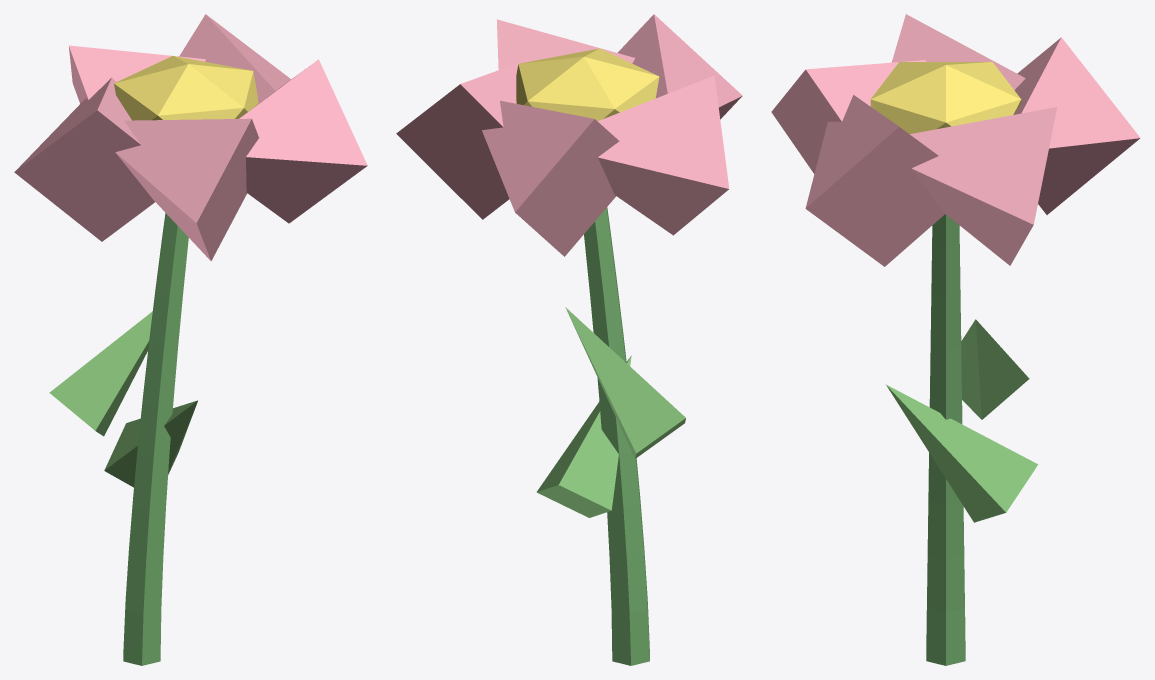
The model's file is 50-Vegetacion_flor_isla.glb.
3 views of the same model, side by side, from view 1: azimuth 30°, elevation 25°; view 2: azimuth 150°, elevation 25°; view 3: azimuth 270°, elevation 25° (orthographic). The views are drawn at different scales.
Parts seen in each view (by area): view 1: SM_Tallo_M_Petalo_Flor, SM_Tallo_M_Tallo_Flor, SM_Tallo_M_Hoja_Flor, SM_Tallo_M_Centro_Flor; view 2: SM_Tallo_M_Petalo_Flor, SM_Tallo_M_Tallo_Flor, SM_Tallo_M_Hoja_Flor, SM_Tallo_M_Centro_Flor; view 3: SM_Tallo_M_Petalo_Flor, SM_Tallo_M_Tallo_Flor, SM_Tallo_M_Hoja_Flor, SM_Tallo_M_Centro_Flor.
Part boxes in pixels (bbox=[...]): SM_Tallo_M_Petalo_Flor: bbox=[14, 14, 367, 261]; SM_Tallo_M_Tallo_Flor: bbox=[123, 213, 188, 665]; SM_Tallo_M_Hoja_Flor: bbox=[49, 311, 197, 487]; SM_Tallo_M_Centro_Flor: bbox=[114, 56, 258, 120]; SM_Tallo_M_Petalo_Flor: bbox=[396, 14, 742, 256]; SM_Tallo_M_Tallo_Flor: bbox=[584, 207, 649, 665]; SM_Tallo_M_Hoja_Flor: bbox=[536, 307, 685, 517]; SM_Tallo_M_Centro_Flor: bbox=[516, 48, 659, 121]; SM_Tallo_M_Petalo_Flor: bbox=[771, 14, 1140, 266]; SM_Tallo_M_Tallo_Flor: bbox=[926, 214, 965, 665]; SM_Tallo_M_Hoja_Flor: bbox=[886, 319, 1037, 522]; SM_Tallo_M_Centro_Flor: bbox=[870, 62, 1021, 134].
Bounding box in the file's own units: 0.6516 × 1.19 × 0.6498.
